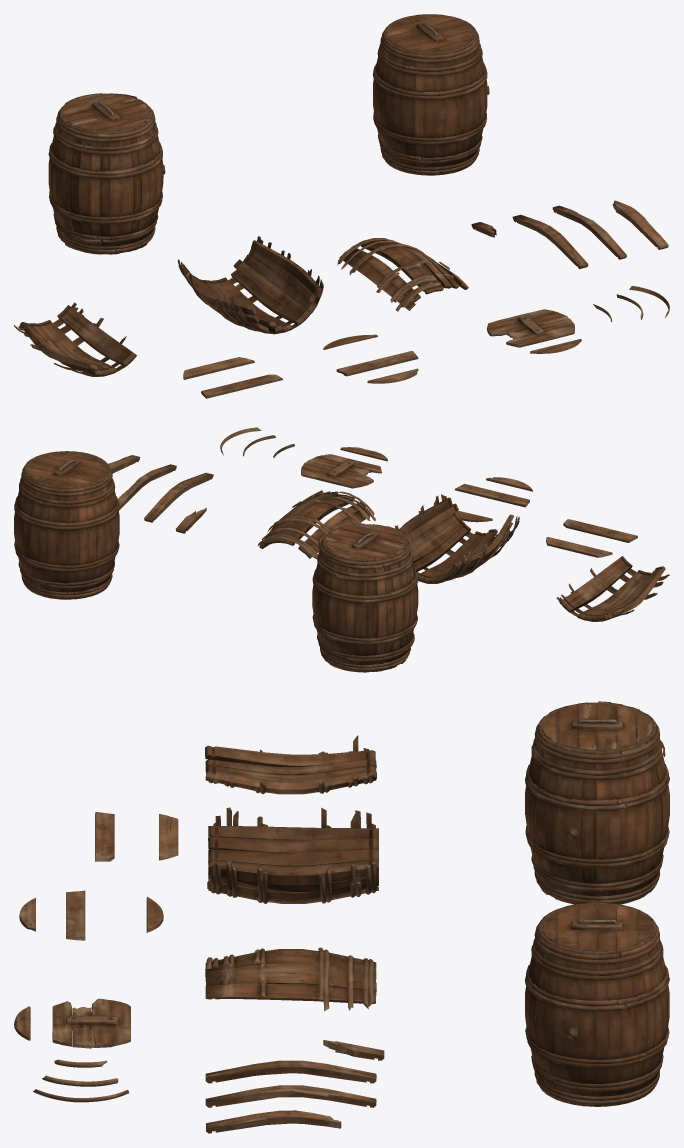
The model's file is wooden_barrels_01.glb.
3 renders of one model, top to bottom at view 1: azimuth 30°, elevation 25°; view 2: azimuth 150°, elevation 25°; view 3: azimuth 270°, elevation 25°, orthographic. The views are drawn at different scales.
Visible parts, largest first — view 1: wooden_barrels_01_barrel02, wooden_barrels_01_barrel01, wooden_barrels_01_piece01, wooden_barrels_01_piece03, wooden_barrels_01_piece02, wooden_barrels_01_piece08, wooden_barrels_01_piece04, wooden_barrels_01_piece05, wooden_barrels_01_piece06, wooden_barrels_01_piece11, wooden_barrels_01_piece14, wooden_barrels_01_piece13; view 2: wooden_barrels_01_barrel02, wooden_barrels_01_barrel01, wooden_barrels_01_piece01, wooden_barrels_01_piece03, wooden_barrels_01_piece02, wooden_barrels_01_piece08, wooden_barrels_01_piece04, wooden_barrels_01_piece14, wooden_barrels_01_piece11, wooden_barrels_01_piece05, wooden_barrels_01_piece13; view 3: wooden_barrels_01_barrel01, wooden_barrels_01_barrel02, wooden_barrels_01_piece01, wooden_barrels_01_piece03, wooden_barrels_01_piece02, wooden_barrels_01_piece08, wooden_barrels_01_piece04, wooden_barrels_01_piece05, wooden_barrels_01_piece06, wooden_barrels_01_piece11, wooden_barrels_01_piece14, wooden_barrels_01_piece13 (+1 smaller).
Boxes of the visible parts, box(x1,y1,x2,y2) form: wooden_barrels_01_barrel02: box(48, 93, 165, 254); wooden_barrels_01_barrel01: box(373, 14, 489, 175); wooden_barrels_01_piece01: box(177, 236, 323, 334); wooden_barrels_01_piece03: box(337, 238, 468, 311); wooden_barrels_01_piece02: box(14, 302, 136, 376); wooden_barrels_01_piece08: box(487, 309, 574, 347); wooden_barrels_01_piece04: box(512, 214, 588, 268); wooden_barrels_01_piece05: box(552, 205, 626, 259); wooden_barrels_01_piece06: box(612, 200, 668, 249); wooden_barrels_01_piece11: box(336, 351, 418, 376); wooden_barrels_01_piece14: box(201, 374, 282, 398); wooden_barrels_01_piece13: box(183, 357, 254, 379); wooden_barrels_01_barrel02: box(312, 523, 418, 672); wooden_barrels_01_barrel01: box(14, 451, 119, 599); wooden_barrels_01_piece01: box(394, 494, 519, 583); wooden_barrels_01_piece03: box(258, 490, 375, 559); wooden_barrels_01_piece02: box(556, 556, 669, 621); wooden_barrels_01_piece08: box(301, 454, 381, 488); wooden_barrels_01_piece04: box(144, 472, 213, 522); wooden_barrels_01_piece14: box(563, 519, 637, 542); wooden_barrels_01_piece11: box(454, 484, 529, 507); wooden_barrels_01_piece05: box(118, 464, 176, 510); wooden_barrels_01_piece13: box(546, 537, 612, 557); wooden_barrels_01_barrel01: box(525, 902, 669, 1106); wooden_barrels_01_barrel02: box(525, 701, 669, 904); wooden_barrels_01_piece01: box(207, 807, 378, 903); wooden_barrels_01_piece03: box(205, 947, 376, 1011); wooden_barrels_01_piece02: box(205, 735, 376, 794); wooden_barrels_01_piece08: box(52, 998, 130, 1048); wooden_barrels_01_piece04: box(205, 1060, 376, 1083); wooden_barrels_01_piece05: box(205, 1085, 376, 1107); wooden_barrels_01_piece06: box(206, 1110, 341, 1133); wooden_barrels_01_piece11: box(66, 890, 85, 940); wooden_barrels_01_piece14: box(95, 812, 114, 861); wooden_barrels_01_piece13: box(159, 814, 178, 860).
Size of the model in its own units: 4.44 by 0.953 by 3.34.
3 materials, 3 textured.
